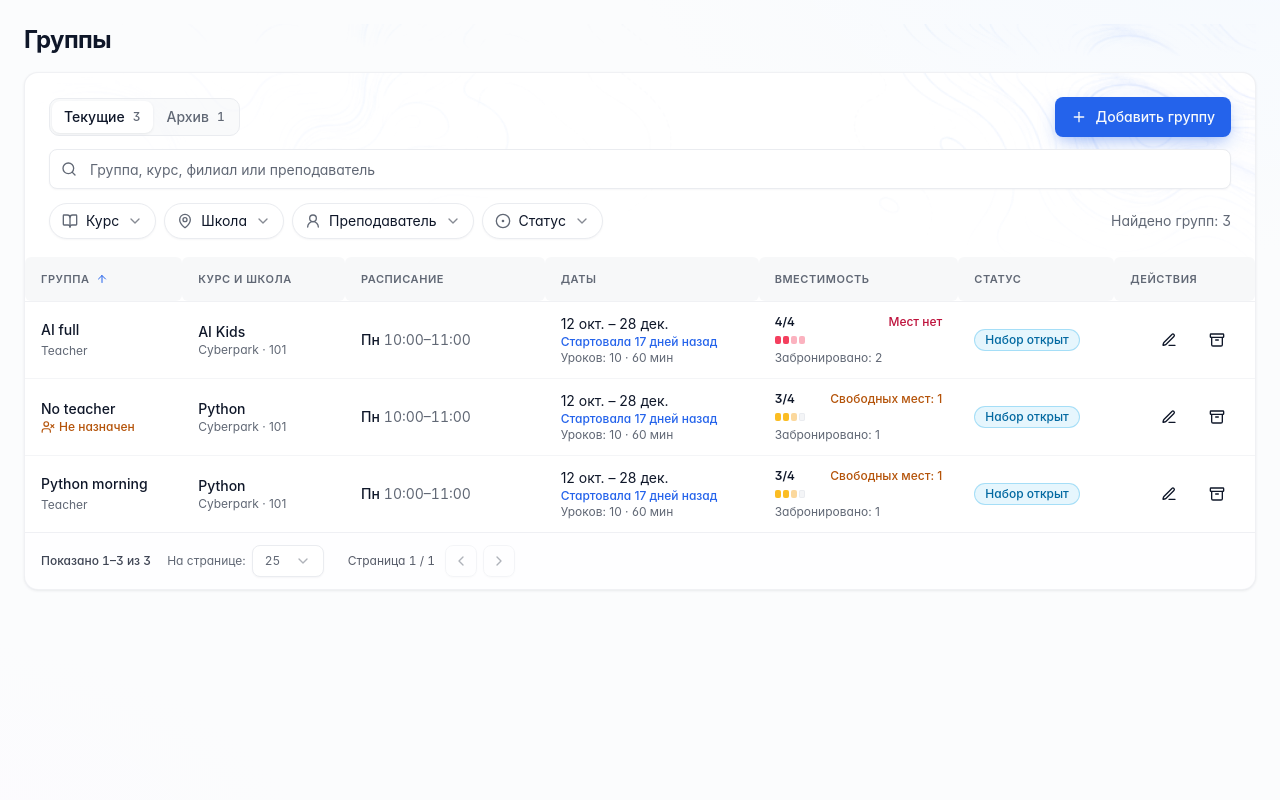
keeps seat counts on rows while searching and resetting the list
Expected: the text "Python morning" is shown, [41,474,166,494]
Expected: the 2nd text "3/4" is shown, [775,468,795,484]
Type "no teacher" into the search field with placeholder "Группа, курс, филиал или преподаватель".
click(640, 169); type("no teacher")  # box [49,149,1231,189]
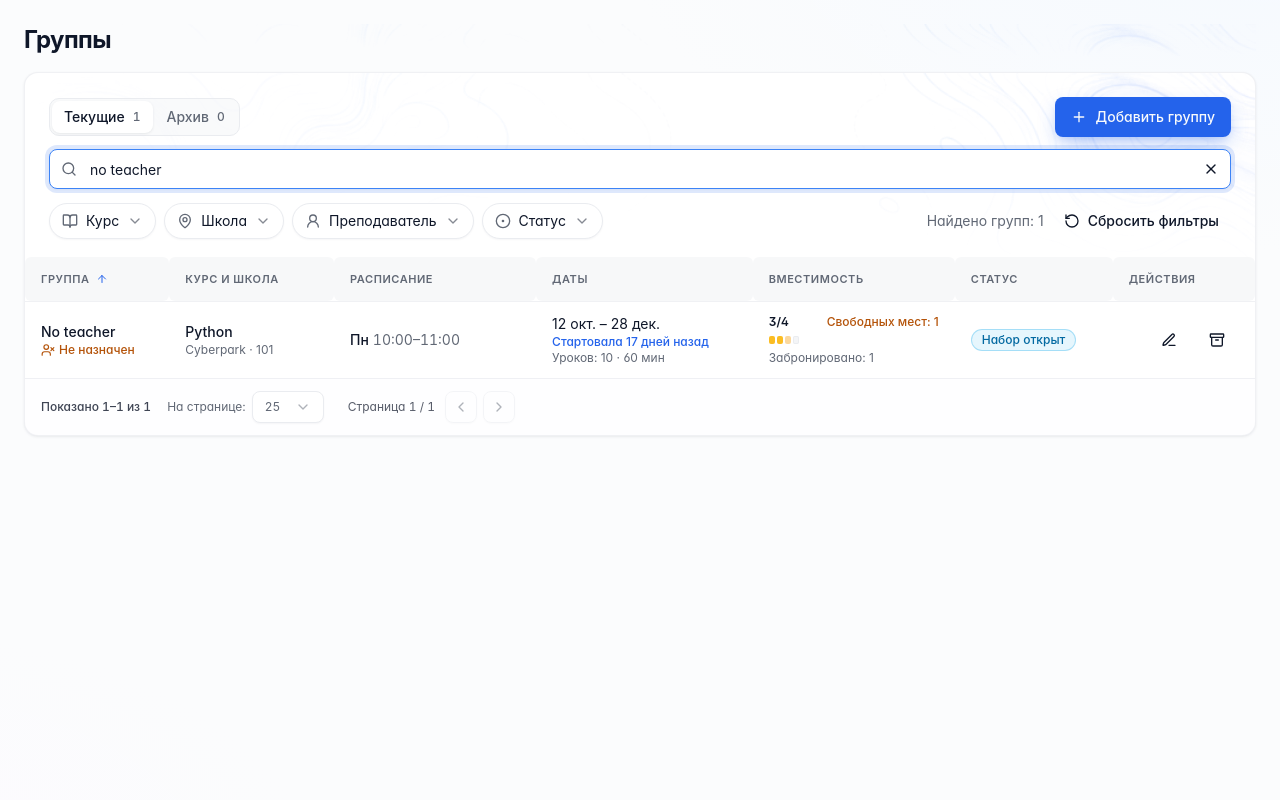
Expected: the text "No teacher" is shown, [41,322,115,340]
Now the button "Python morning" is gone
Now the button "AI full" is gone
Click the button "Сбросить фильтры".
click(1141, 221)  # box [1052,203,1231,239]
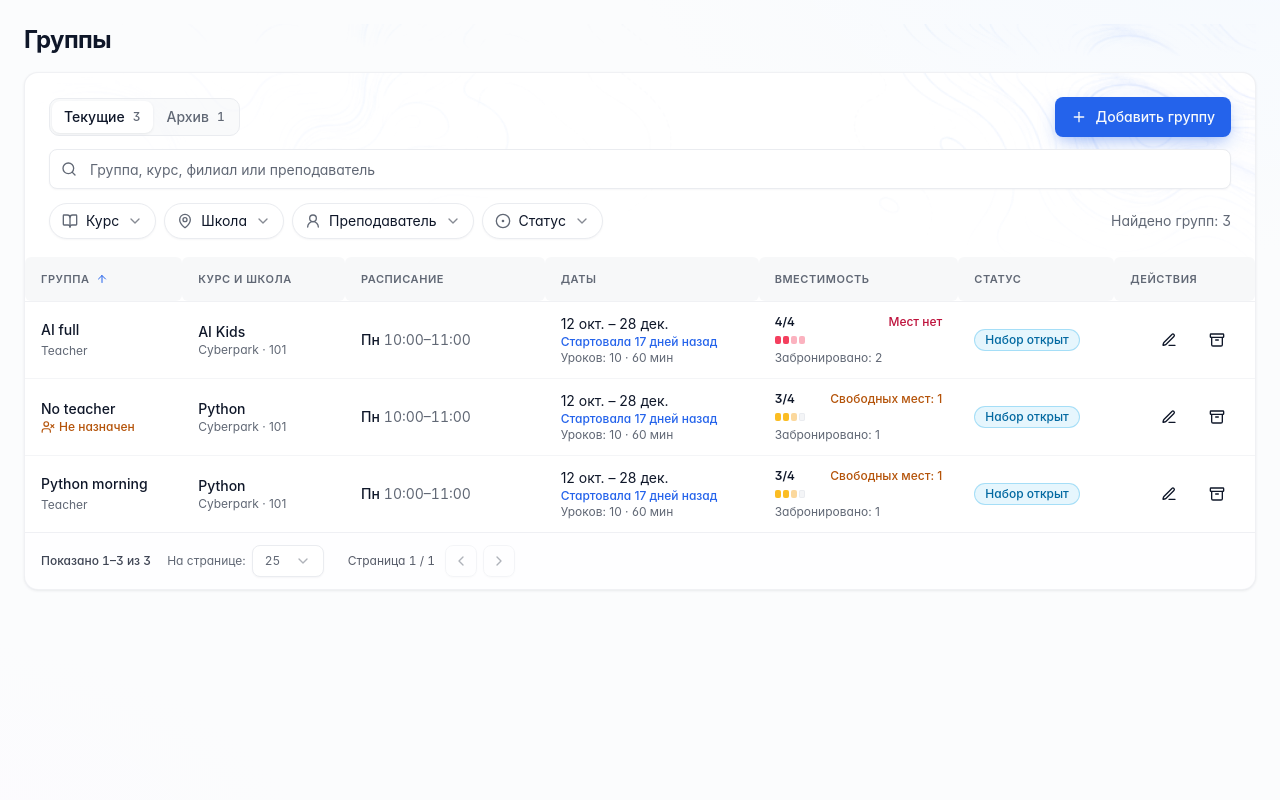
Now the text "AI full" is shown, box [41,320,79,338]
